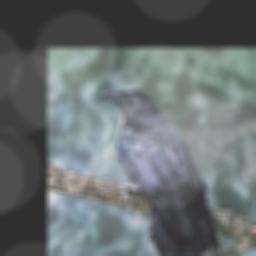Crow: (99, 88, 220, 256)
